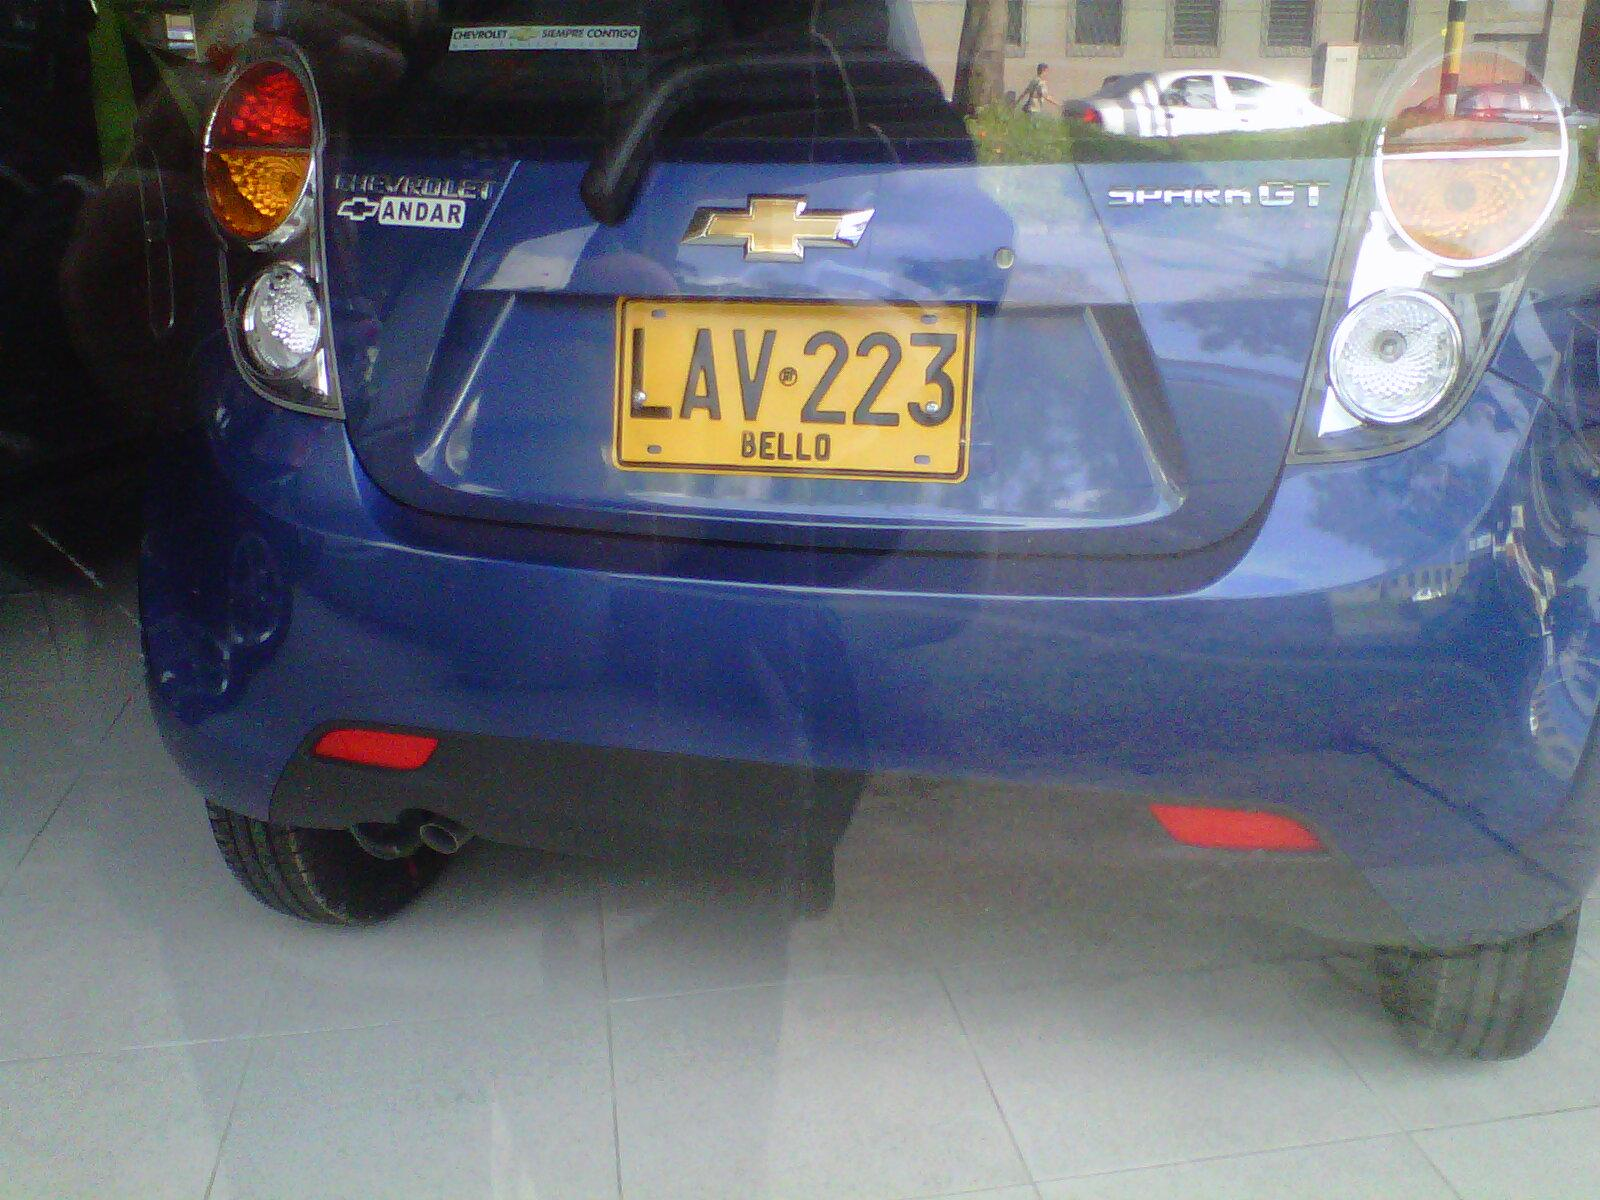placas: (608, 282, 976, 492)
